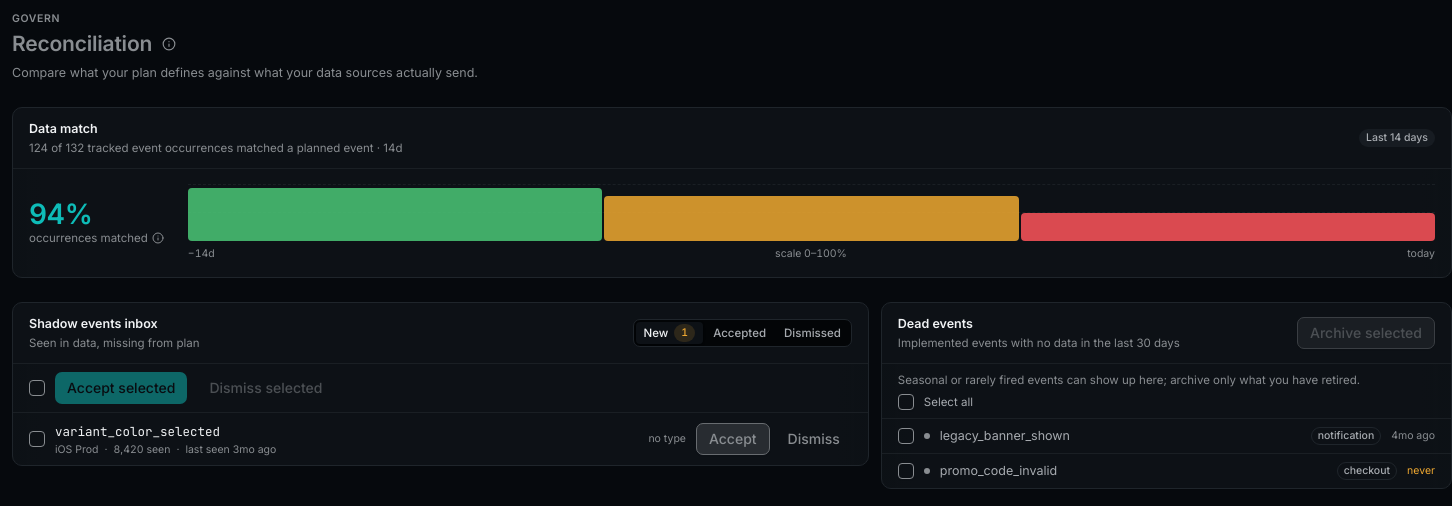
ReconciliationPage › select-all toggles every dead row and reflects the count on the archive action
Expected: the link "legacy_banner_shown" is shown, [940,428,1070,443]
Expected: the button "Archive selected" is disabled, [1297,317,1435,349]
Click the checkbox named "Select all dead events". click: click(906, 402)
box: [898,394,914,410]
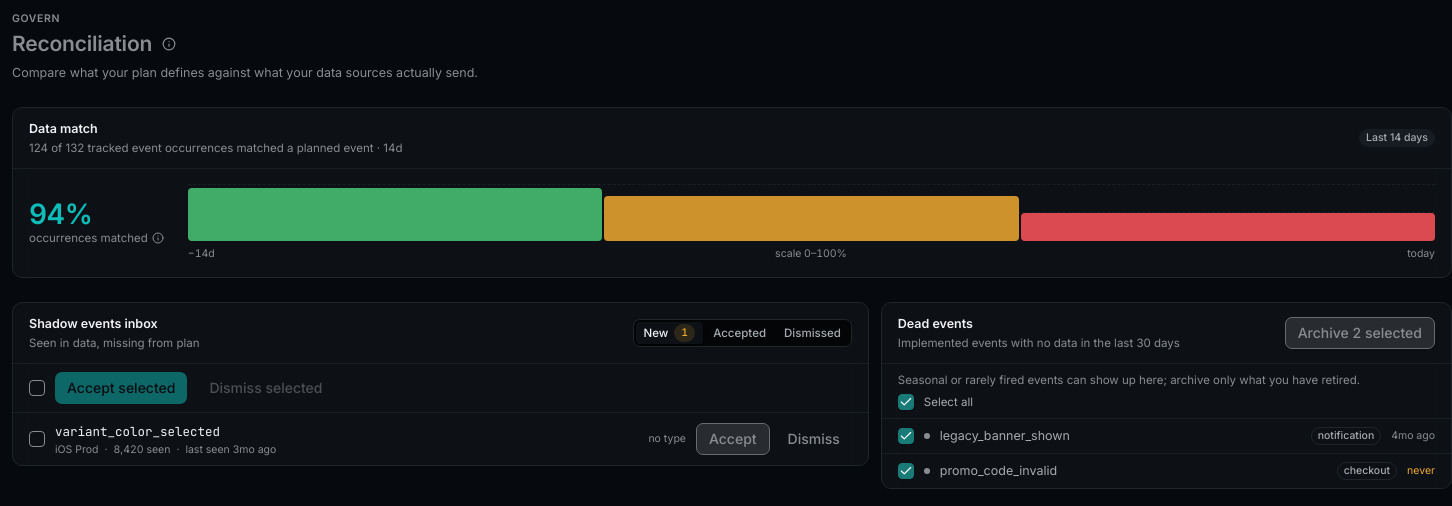
Expected: the button "Archive 2 selected" is enabled, [1285,317,1435,349]
Expected: the checkbox named "Select legacy_banner_shown" is checked, [898,428,914,444]
Expected: the checkbox named "Select promo_code_invalid" is checked, [898,463,914,479]
